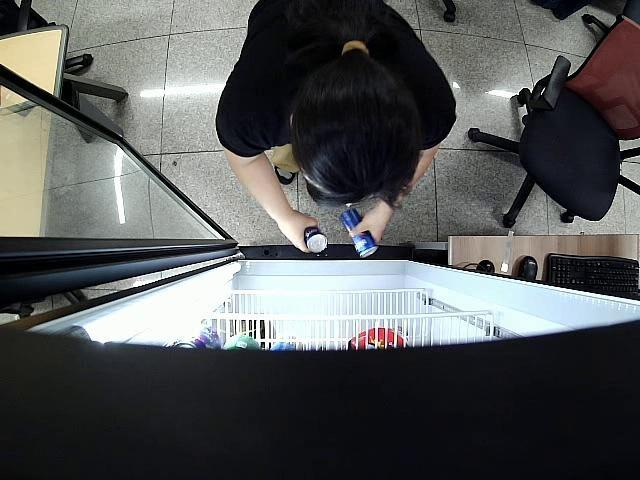16_hot6: (338, 209, 376, 260), (304, 226, 326, 253)
